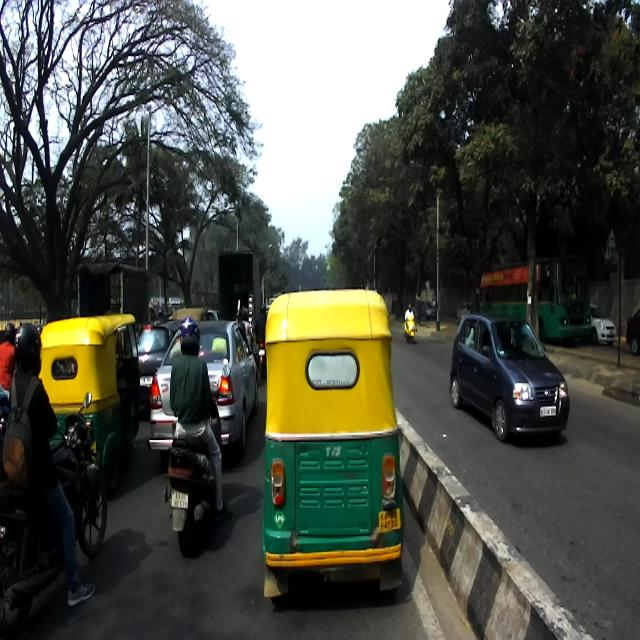auto ahead at: (266, 299, 402, 586)
car ahead at: (448, 310, 572, 452)
motorcycle ahead at: (0, 413, 109, 640), (166, 432, 218, 554)
